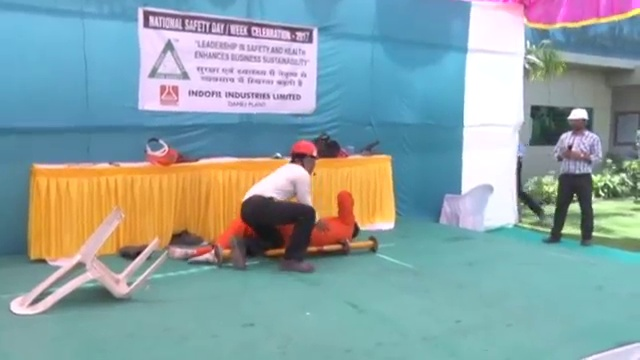helmet: (290, 140, 319, 159), (566, 107, 590, 121)
helmet_on: (289, 139, 317, 177), (564, 107, 591, 134)
person: (230, 141, 319, 275), (173, 192, 368, 252), (541, 107, 603, 246)
